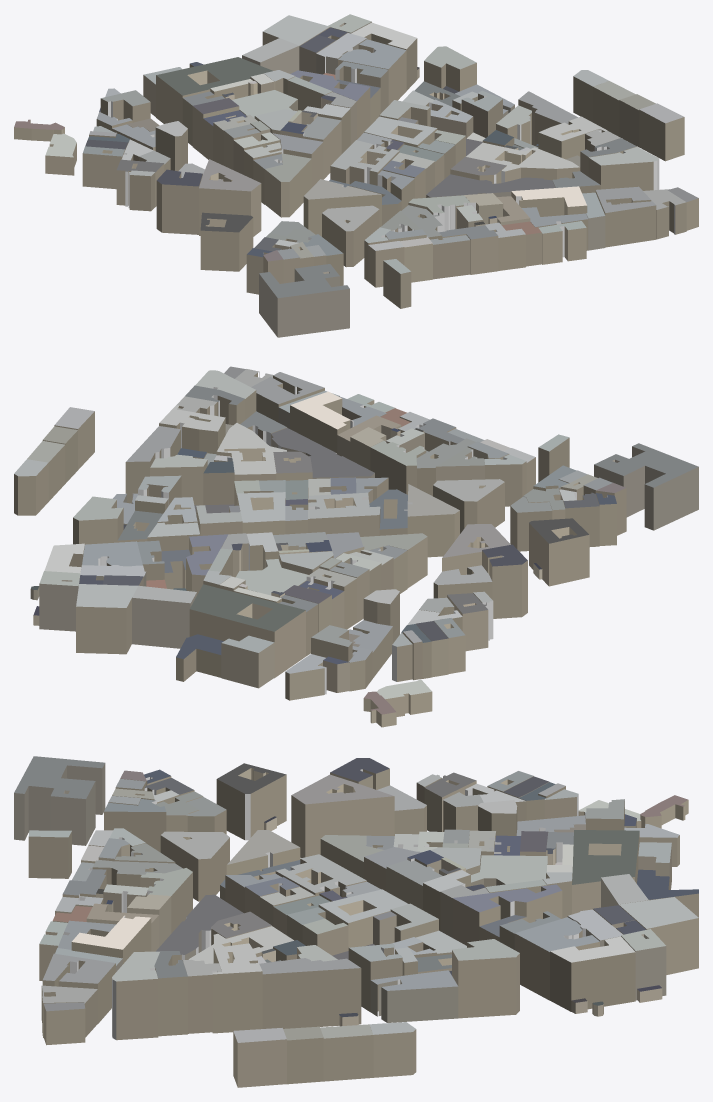
3 renders of one model, top to bottom at view 1: azimuth 30°, elevation 25°; view 2: azimuth 150°, elevation 25°; view 3: azimuth 270°, elevation 25°, orthographic. The views are drawn at different scales.
Parts seen in each view (by area): view 1: tuile; view 2: tuile; view 3: tuile.
Part boxes in pixels (x1=…): tuile: x1=14, y1=14, x2=698, y2=337; tuile: x1=14, y1=366, x2=698, y2=727; tuile: x1=14, y1=756, x2=698, y2=1087.
Bounding box in the file's own units: 269 × 34 × 274.
